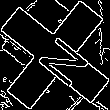N_NW: (23, 23, 87, 87)
